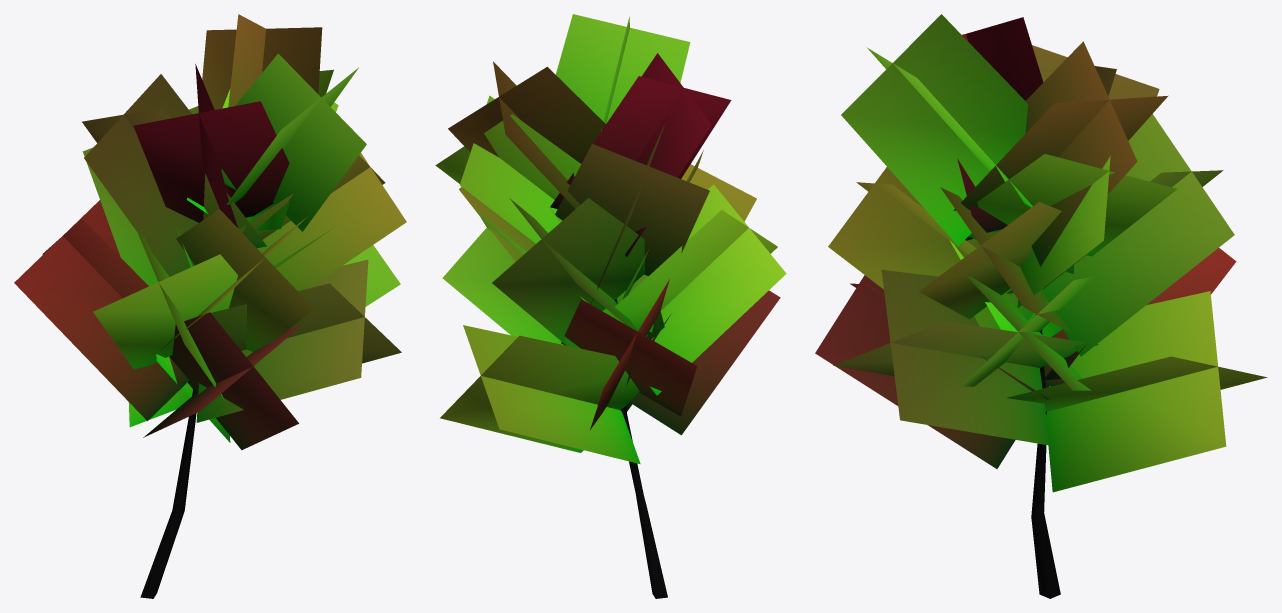
File: SuperTree_6.fbx
3 views of the same model, side by side, from view 1: azimuth 30°, elevation 25°; view 2: azimuth 150°, elevation 25°; view 3: azimuth 270°, elevation 25° (orthographic). The views are drawn at different scales.
Visible parts, largest first — view 1: SuperTree_6; view 2: SuperTree_6; view 3: SuperTree_6.
Part boxes in pixels (x1,y1,x2,y2): SuperTree_6: (14,14,406,598); SuperTree_6: (435,14,786,598); SuperTree_6: (815,14,1267,598).
Size of the model in its own units: 483 by 806 by 529.
